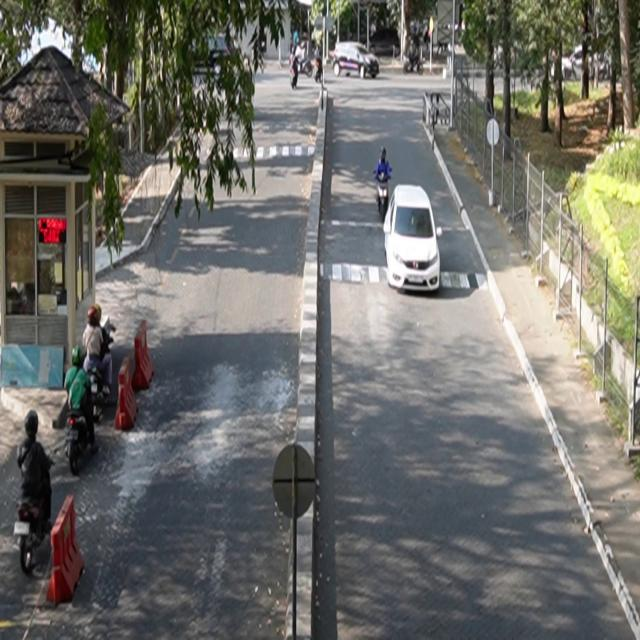car: (384, 184, 442, 293), (333, 42, 380, 79)
